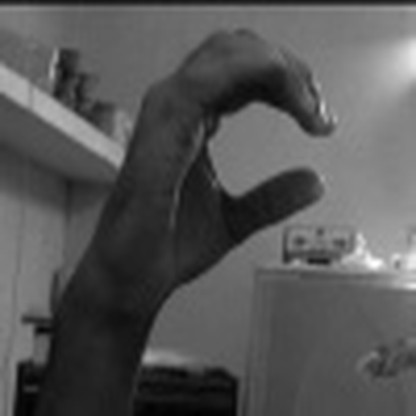c: (132, 14, 340, 280)
